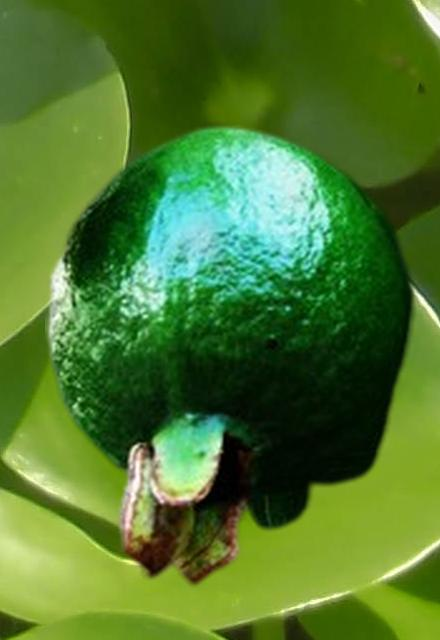guava: (45, 122, 417, 586)
